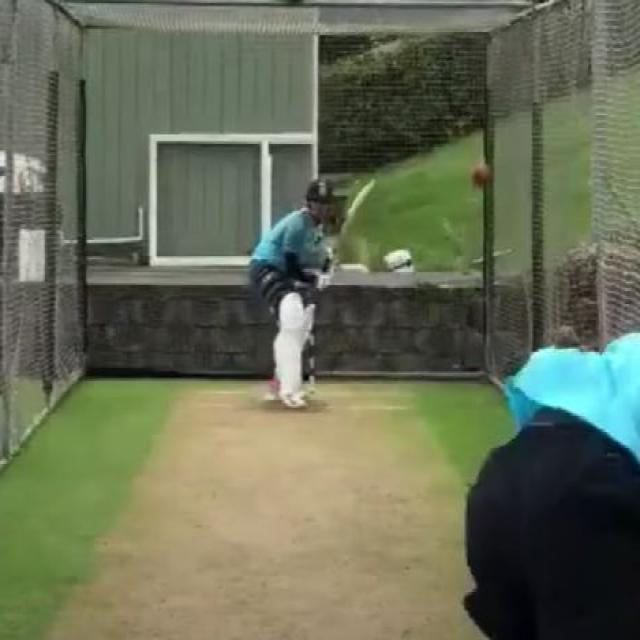ball: (466, 160, 496, 192)
